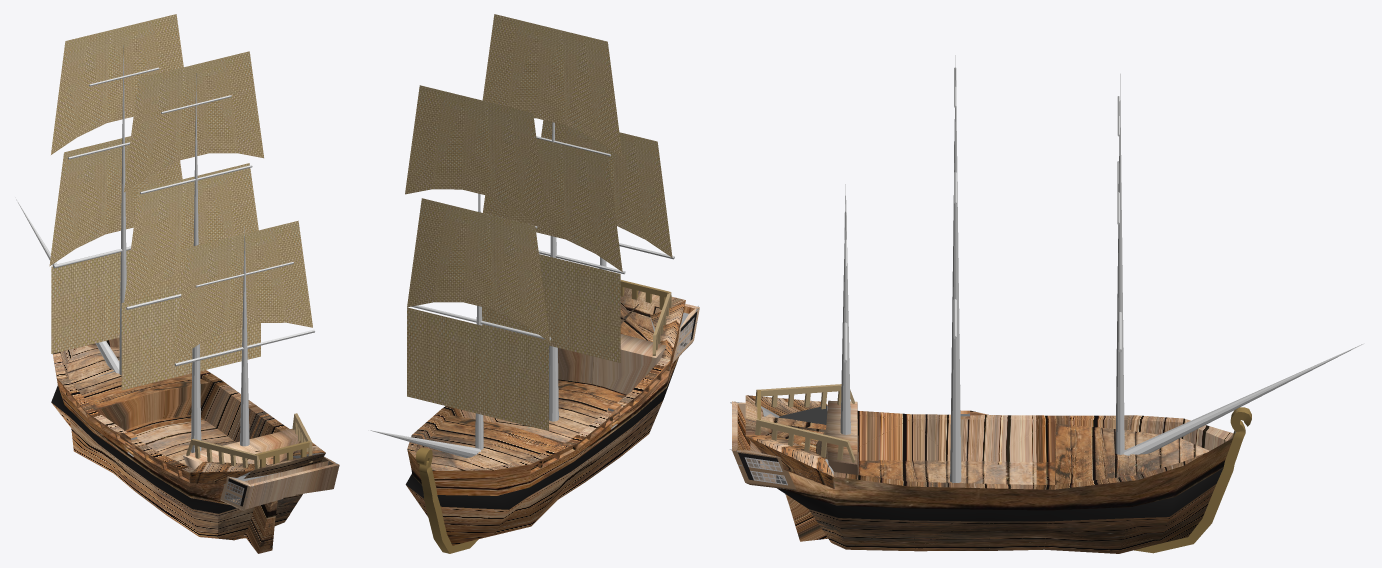
The model's file is scarborough.fbx.
The picture shows the model from 3 angles, left to right: view 1: azimuth 30°, elevation 25°; view 2: azimuth 150°, elevation 25°; view 3: azimuth 270°, elevation 25°; orthographic projection. The views are drawn at different scales.
Visible parts, largest first — view 1: pasted__pPlane1 (×4), shipbody, pPlane1, pasted__pPlane2, pPlane2, pasted__pCone1 (×2), pCone1, polySurface1, pCube1, pasted__pasted__pCone1, pCube2, pCylinder8; view 2: pasted__pPlane1 (×4), shipbody, pPlane2, pPlane1, pasted__pPlane2, polySurface1, pCone1, pasted__pasted__pCone1, pCube2, pCylinder3, pasted__pCone1, pCube1; view 3: shipbody, pasted__pCone1 (×2), pCone1, polySurface2, pasted__pasted__pCone1, pasted__pCube1, polySurface1, pCube1.
Boxes of the visible parts, left/top/right/bottom form: pasted__pPlane1 (×4): left=49, top=14, right=312, bottom=361; shipbody: left=51, top=337, right=339, bottom=553; pPlane1: left=124, top=163, right=258, bottom=303; pasted__pPlane2: left=121, top=288, right=260, bottom=390; pPlane2: left=51, top=249, right=184, bottom=353; pasted__pCone1 (×2): left=119, top=45, right=249, bottom=446; pCone1: left=191, top=73, right=201, bottom=452; polySurface1: left=189, top=461, right=254, bottom=484; pCube1: left=186, top=438, right=259, bottom=469; pasted__pasted__pCone1: left=16, top=199, right=119, bottom=373; pCube2: left=255, top=441, right=310, bottom=467; pCylinder8: left=174, top=329, right=314, bottom=366; pasted__pPlane1 (×4): left=405, top=14, right=672, bottom=341; shipbody: left=405, top=287, right=699, bottom=553; pPlane2: left=407, top=307, right=548, bottom=430; pPlane1: left=483, top=138, right=622, bottom=271; pasted__pPlane2: left=482, top=254, right=620, bottom=362; polySurface1: left=650, top=301, right=685, bottom=370; pCone1: left=549, top=122, right=558, bottom=421; pasted__pasted__pCone1: left=370, top=430, right=480, bottom=457; pCube2: left=620, top=280, right=670, bottom=309; pCylinder3: left=411, top=305, right=551, bottom=340; pasted__pCone1: left=475, top=193, right=483, bottom=449; pCube1: left=652, top=292, right=671, bottom=355; shipbody: left=730, top=395, right=1251, bottom=553; pasted__pCone1 (×2): left=840, top=74, right=1124, bottom=454; pCone1: left=950, top=55, right=961, bottom=482; polySurface2: left=747, top=435, right=834, bottom=488; pasted__pasted__pCone1: left=1123, top=343, right=1364, bottom=455; pasted__pCube1: left=755, top=418, right=855, bottom=462; polySurface1: left=746, top=395, right=827, bottom=424; pCube1: left=755, top=384, right=854, bottom=409.
Bounding box in the file's own units: 10.21 × 30.68 × 35.14.
Materials: 24 (15 with a texture image).
